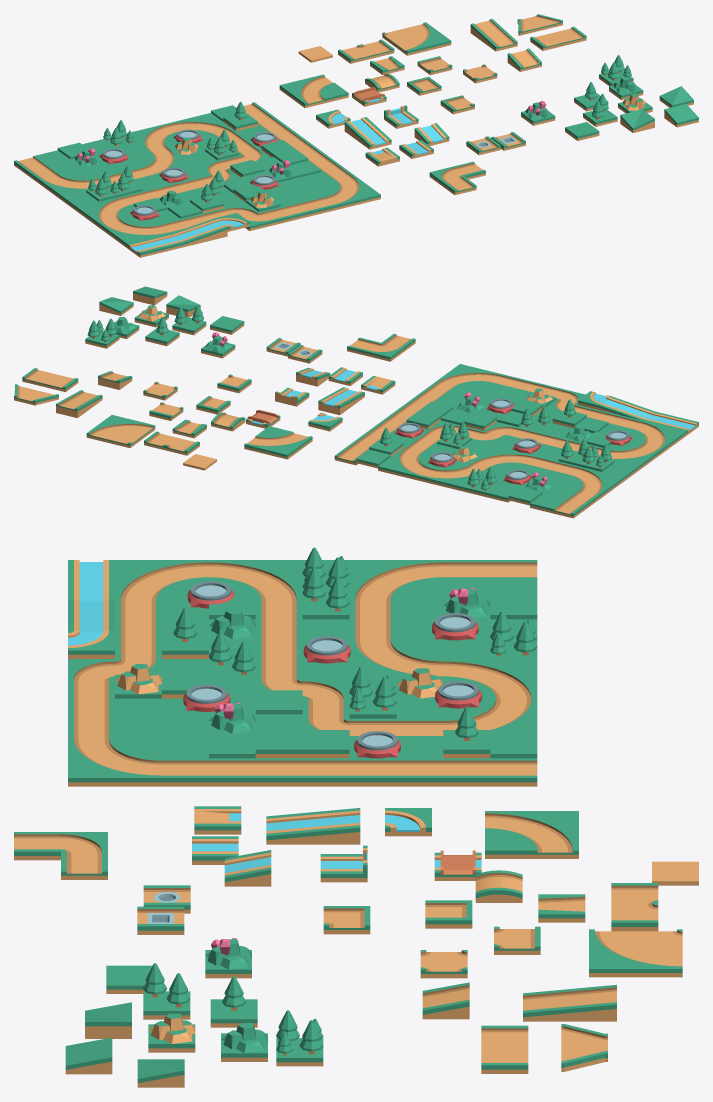
File: trial_map.obj
3 views of the same model, one above another, from view 1: azimuth 30°, elevation 25°; view 2: azimuth 150°, elevation 25°; view 3: azimuth 270°, elevation 25° (orthographic). The views are drawn at different scales.
Visible parts, largest first — view 1: tile_cornerLarge, tile_cornerLarge.001, tile_wideCorner, tile_cornerLarge.006, tile_cornerLarge.005, tile_cornerLarge.004, tile_cornerLarge.002, tile_cornerLarge.003, tile_riverSlopeLarge, tile_riverSlopeLarge.001, tile_straightHillLarge, tile_wideSplit (+52 smaller); view 2: tile_cornerLarge, tile_wideCorner, tile_cornerLarge.001, tile_cornerLarge.002, tile_cornerLarge.005, tile_cornerLarge.006, tile_cornerLarge.003, tile_cornerLarge.004, tile_riverSlopeLarge, tile_straightHillLarge, tile_wideStraight, tile_wideSplit (+53 smaller); view 3: tile_cornerLarge, tile_cornerLarge.006, tile_cornerLarge.001, tile_wideCorner, tile_cornerLarge.002, tile_cornerLarge.005, tile_cornerLarge.003, tile_cornerLarge.004, tile_riverSlopeLarge, tile_straightHillLarge, tile_straight.013, tile_straight.014 (+86 smaller).
Boxes of the visible parts, x1,y1,x2,y2 form: tile_cornerLarge: (126, 113, 235, 152); tile_cornerLarge.001: (279, 74, 348, 107); tile_wideCorner: (382, 22, 451, 55); tile_cornerLarge.006: (312, 176, 380, 209); tile_cornerLarge.005: (102, 218, 170, 248); tile_cornerLarge.004: (77, 196, 135, 229); tile_cornerLarge.002: (39, 168, 98, 202); tile_cornerLarge.003: (128, 147, 195, 176); tile_riverSlopeLarge: (344, 117, 391, 149); tile_riverSlopeLarge.001: (172, 218, 227, 246); tile_straightHillLarge: (470, 18, 517, 51); tile_wideSplit: (338, 39, 394, 63); tile_cornerLarge: (378, 448, 488, 491); tile_wideCorner: (86, 415, 155, 447); tile_cornerLarge.001: (244, 426, 312, 459); tile_cornerLarge.002: (555, 466, 623, 499); tile_cornerLarge.005: (627, 421, 686, 453); tile_cornerLarge.006: (435, 364, 503, 392); tile_cornerLarge.003: (468, 445, 536, 473); tile_cornerLarge.004: (598, 442, 661, 472); tile_riverSlopeLarge: (318, 387, 364, 415); tile_straightHillLarge: (56, 390, 102, 417); tile_wideStraight: (22, 368, 78, 392); tile_wideSplit: (144, 431, 199, 455); tile_cornerLarge: (435, 659, 537, 733); tile_cornerLarge.006: (68, 738, 161, 786); tile_cornerLarge.001: (485, 811, 578, 858); tile_wideCorner: (589, 929, 682, 977); tile_cornerLarge.002: (349, 560, 443, 601); tile_cornerLarge.005: (115, 560, 208, 601); tile_cornerLarge.003: (349, 639, 443, 678); tile_cornerLarge.004: (209, 560, 302, 601); tile_riverSlopeLarge: (266, 808, 360, 844); tile_straightHillLarge: (523, 984, 616, 1021); tile_straight.013: (255, 758, 349, 786); tile_straight.014: (349, 758, 443, 786).
Bounding box in the file's own units: 26.18 × 1.16 × 14.6.
